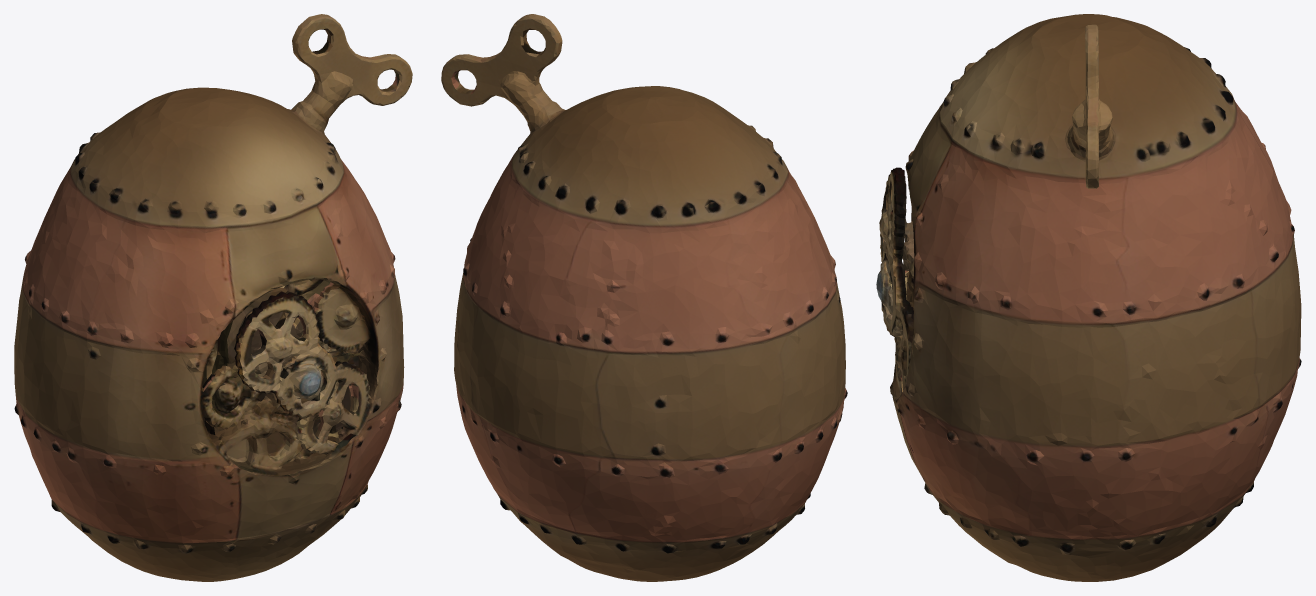
File: vessel-07.glb
The picture shows the model from 3 angles, left to right: view 1: azimuth 30°, elevation 25°; view 2: azimuth 150°, elevation 25°; view 3: azimuth 270°, elevation 25°; orthographic projection. The views are drawn at different scales.
Visible parts, largest first — view 1: tmpgpjk6r_0.ply; view 2: tmpgpjk6r_0.ply; view 3: tmpgpjk6r_0.ply.
Boxes of the visible parts, x1,y1,x2,y2 form: tmpgpjk6r_0.ply: (14,14,412,581); tmpgpjk6r_0.ply: (441,14,847,581); tmpgpjk6r_0.ply: (876,14,1301,581).
Size of the model in its own units: 1.5 by 1.99 by 1.29.
Materials: 1 (1 with a texture image).
